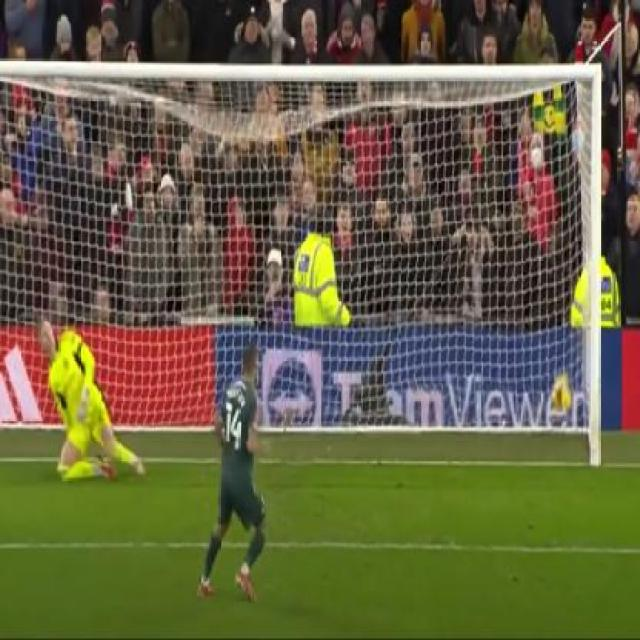ball: (552, 375, 579, 419)
cage: (0, 56, 605, 464)
gardien: (32, 313, 146, 482)
joueur: (194, 342, 269, 602)
